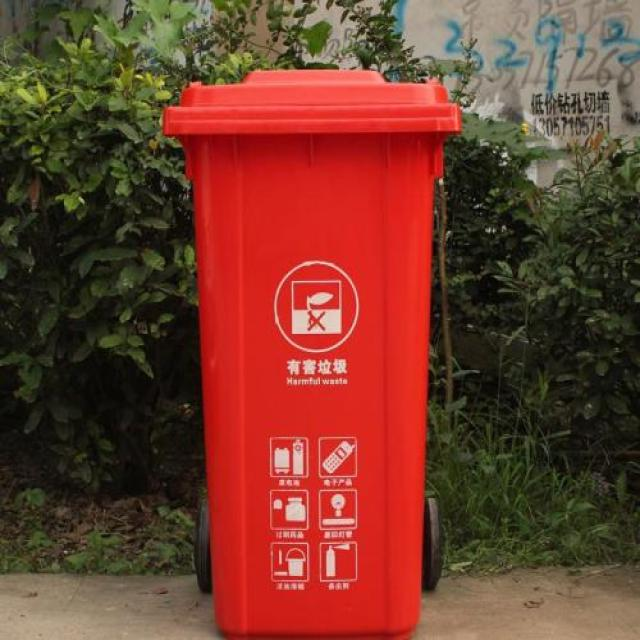garbage_bin: (161, 68, 461, 639)
